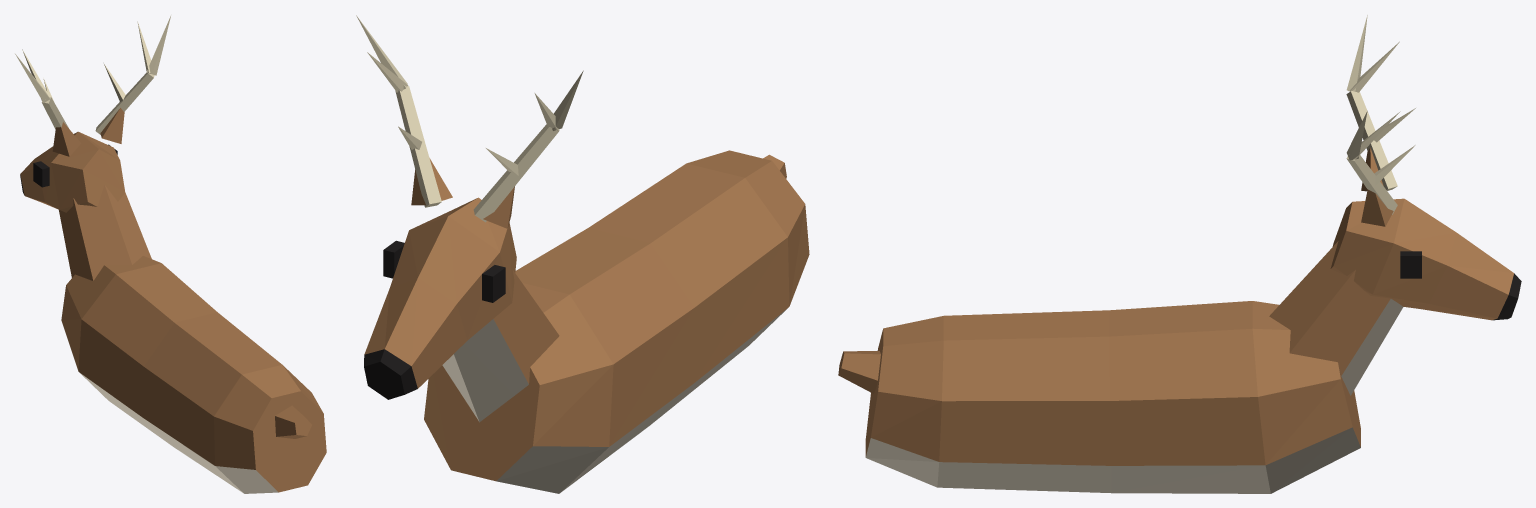
Rendered from animal_deer.obj.
The picture shows the model from 3 angles, left to right: view 1: azimuth 30°, elevation 25°; view 2: azimuth 150°, elevation 25°; view 3: azimuth 270°, elevation 25°; orthographic projection. The views are drawn at different scales.
Visible parts, largest first — view 1: animal_deer; view 2: animal_deer; view 3: animal_deer.
Boxes of the visible parts, x1,y1,x2,y2 form: animal_deer: [15, 16, 326, 493]; animal_deer: [356, 15, 809, 493]; animal_deer: [838, 15, 1521, 493].
Size of the model in its own units: 0.4428 by 0.8982 by 1.33.
